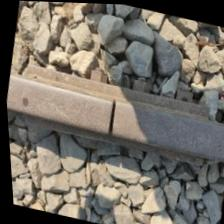person: (69, 79, 151, 154)
